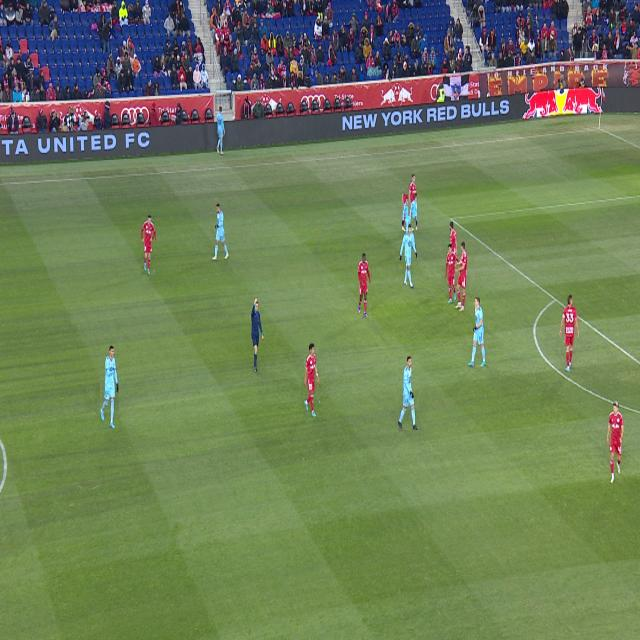player: (559, 295, 580, 372), (100, 346, 119, 428), (398, 356, 419, 430), (606, 400, 624, 484), (468, 296, 486, 367), (399, 224, 417, 288), (305, 343, 319, 417), (212, 203, 229, 260), (445, 244, 459, 304), (455, 241, 467, 311), (358, 254, 371, 317), (142, 216, 155, 275), (403, 194, 416, 233), (449, 221, 458, 259), (409, 175, 417, 216), (413, 212, 418, 232), (404, 226, 407, 232), (406, 199, 408, 206)
referee: (251, 298, 264, 373)
